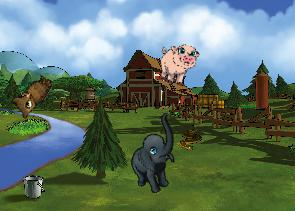elephant: (116, 112, 195, 198)
owl: (6, 67, 54, 121)
pig: (154, 39, 201, 89)
